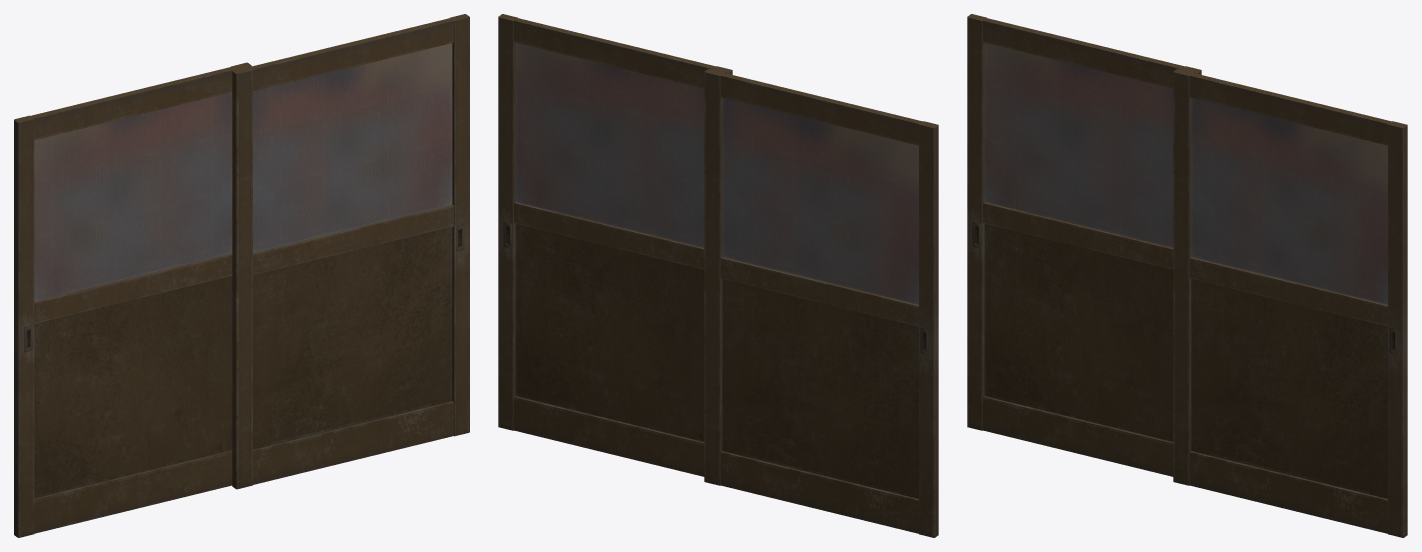
Rendered from Door_D.fbx.
The picture shows the model from 3 angles, left to right: view 1: azimuth 30°, elevation 25°; view 2: azimuth 150°, elevation 25°; view 3: azimuth 330°, elevation 25°; orthographic projection.
Parts seen in each view (by area): view 1: Door_D_Right, Door_D_Left; view 2: Door_D_Left, Door_D_Right; view 3: Door_D_Right, Door_D_Left.
Part boxes in pixels (left/top/right/bottom): Door_D_Right: left=232, top=14, right=469, bottom=489; Door_D_Left: left=14, top=62, right=251, bottom=537; Door_D_Left: left=704, top=69, right=938, bottom=537; Door_D_Right: left=498, top=14, right=732, bottom=476; Door_D_Right: left=1173, top=69, right=1407, bottom=537; Door_D_Left: left=967, top=14, right=1201, bottom=476.
Size of the model in its own units: 219 by 194 by 8.43.
Materials: 1 (1 with a texture image).
